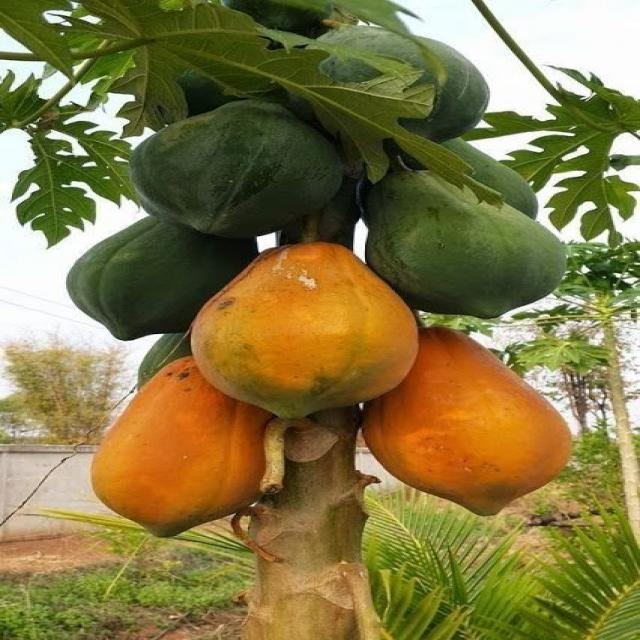Pepaya rippen: (359, 322, 581, 521), (188, 240, 419, 419), (81, 368, 256, 535)
Pepaya unrippen: (363, 163, 574, 318), (123, 96, 346, 238), (70, 219, 224, 349)
